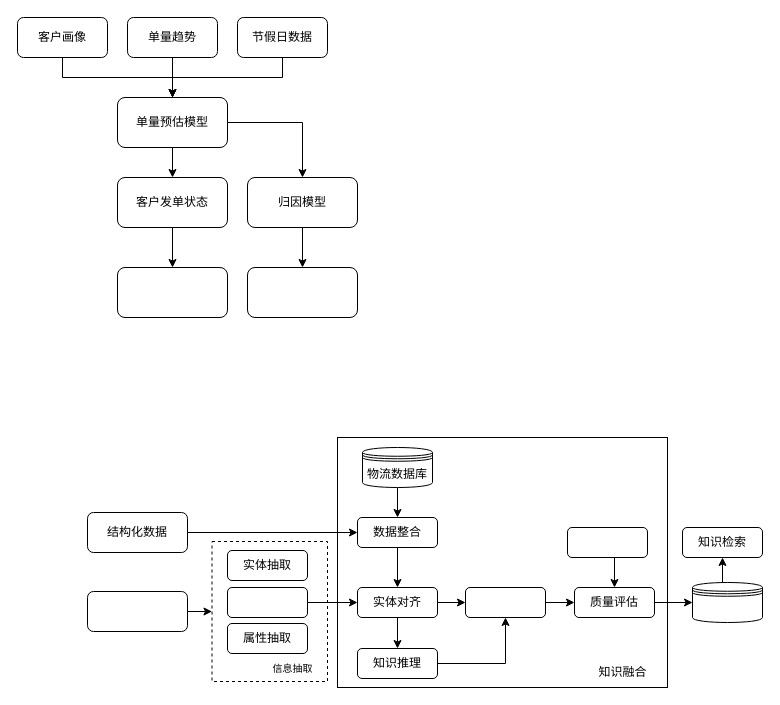
Some shapes in this 780 by 705 pixel diagram are drawn without their labels. The centre of each missing label's shape, as x and y in pixels:
"关系抽取" goes at pixel 267 602.
"客户标签" goes at pixel 302 292.
"所需沟通场景" goes at pixel 172 292.
"本体构建" goes at pixel 505 602.
"知识图谱" goes at pixel 727 602.
"知识更新" goes at pixel 607 542.
"非结构化的信息" goes at pixel 137 611.
